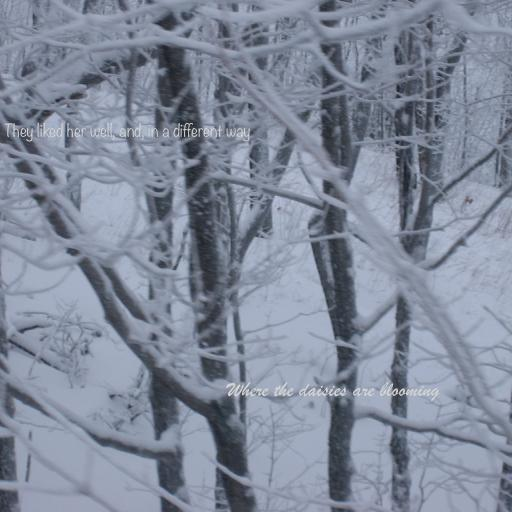Brush Script MT: (227, 382, 439, 402)
Noteworthy: (4, 122, 250, 142)
